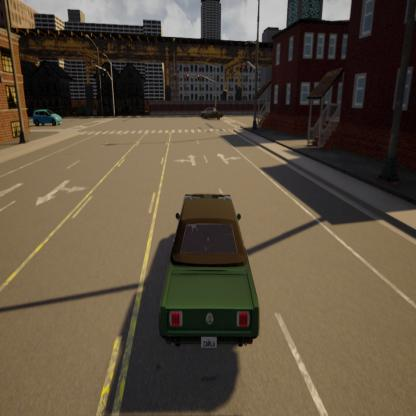Cars: (154, 187, 268, 360), (30, 101, 68, 128), (200, 104, 225, 125)
